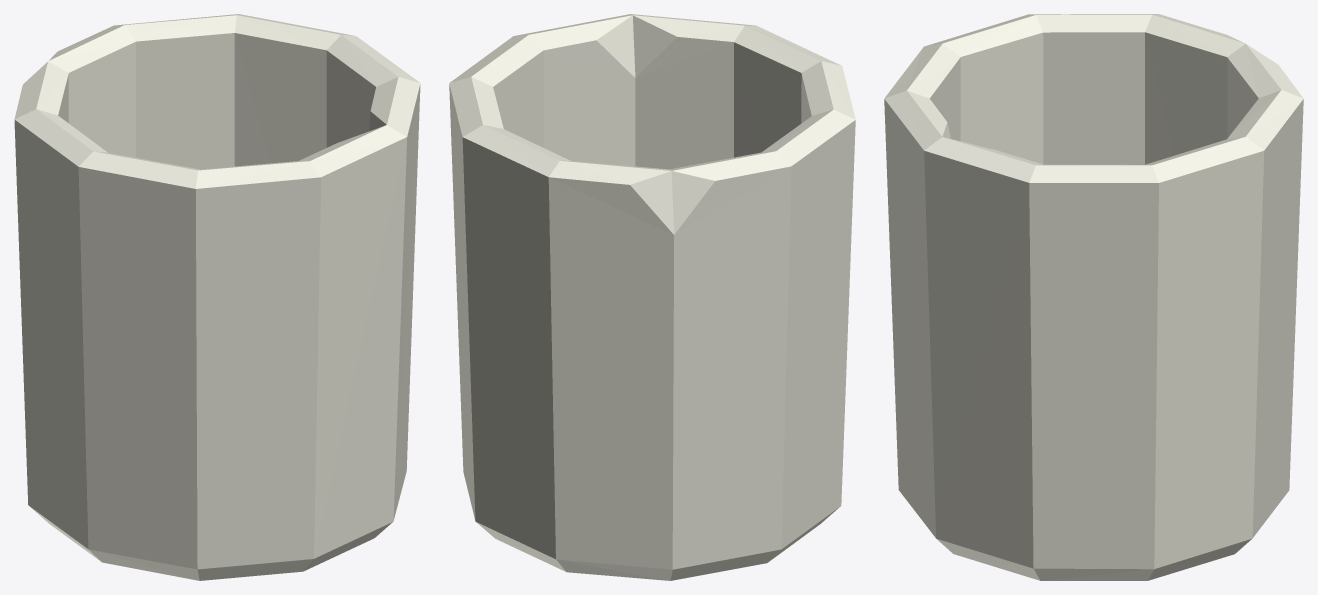
The model's file is SFI_Cup_008.fbx.
3 views of the same model, side by side, from view 1: azimuth 30°, elevation 25°; view 2: azimuth 150°, elevation 25°; view 3: azimuth 270°, elevation 25° (orthographic).
Parts seen in each view (by area): view 1: SFI_Cup_008; view 2: SFI_Cup_008; view 3: SFI_Cup_008.
Part boxes in pixels (x1,y1,x2,y2): SFI_Cup_008: (14,14,420,580); SFI_Cup_008: (449,14,855,580); SFI_Cup_008: (884,14,1303,580).
Size of the model in its own units: 12.03 by 13.99 by 12.63.
